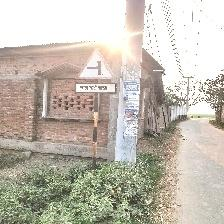Side-road-left: (76, 49, 116, 94)
